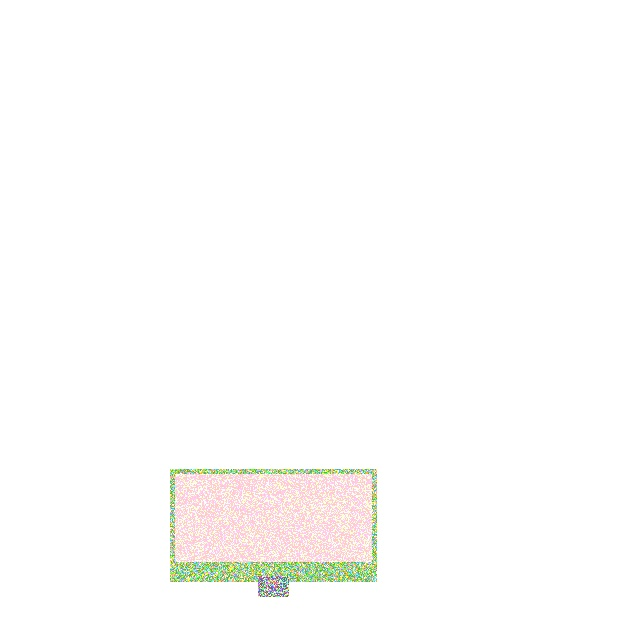Ordinateur: (170, 469, 376, 581)
